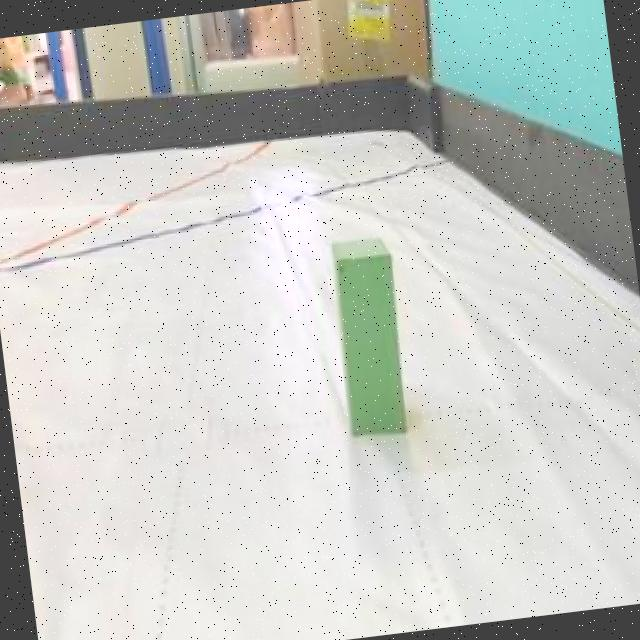greenbox: (326, 227, 417, 440)
